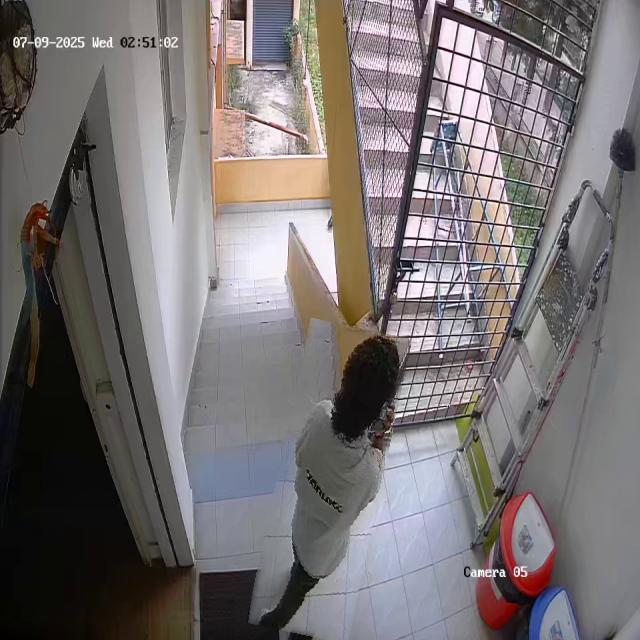person: (261, 321, 396, 640)
